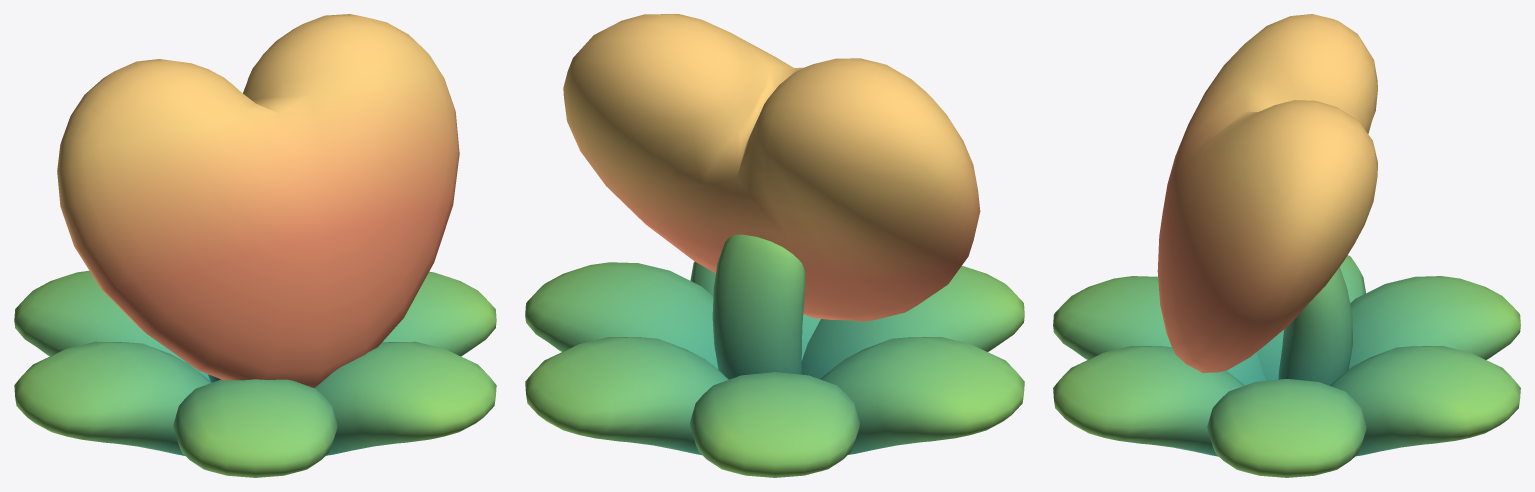
File: heart.fbx
3 views of the same model, side by side, from view 1: azimuth 30°, elevation 25°; view 2: azimuth 150°, elevation 25°; view 3: azimuth 270°, elevation 25° (orthographic). The views are drawn at different scales.
Visible parts, largest first — view 1: Cube.018, Cube.017; view 2: Cube.018, Cube.017, Cube.019; view 3: Cube.017, Cube.018, Cube.019.
Boxes of the visible parts, x1,y1,x2,y2 form: Cube.018: (57, 14, 459, 387); Cube.017: (14, 270, 496, 477); Cube.018: (563, 14, 980, 321); Cube.017: (525, 261, 1024, 477); Cube.019: (712, 234, 805, 379); Cube.017: (1053, 255, 1520, 477); Cube.018: (1157, 14, 1377, 373); Cube.019: (1278, 267, 1352, 385).
Bounding box in the file's own units: 1231 × 983 × 1121.
1 material, 1 textured.
